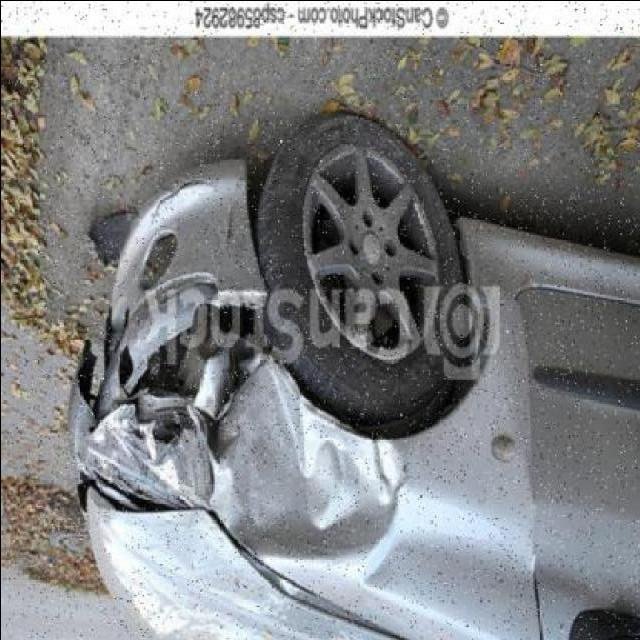Headlight-Damage: (68, 396, 235, 520)
fender-dent: (244, 306, 543, 582)
front-bumper-dent: (75, 152, 286, 414)
